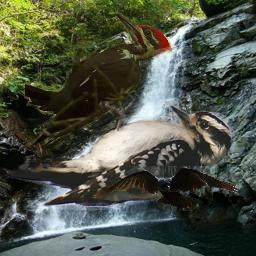Crow: (92, 166, 239, 217)
Woodpecker: (2, 101, 247, 216), (25, 13, 173, 150)
